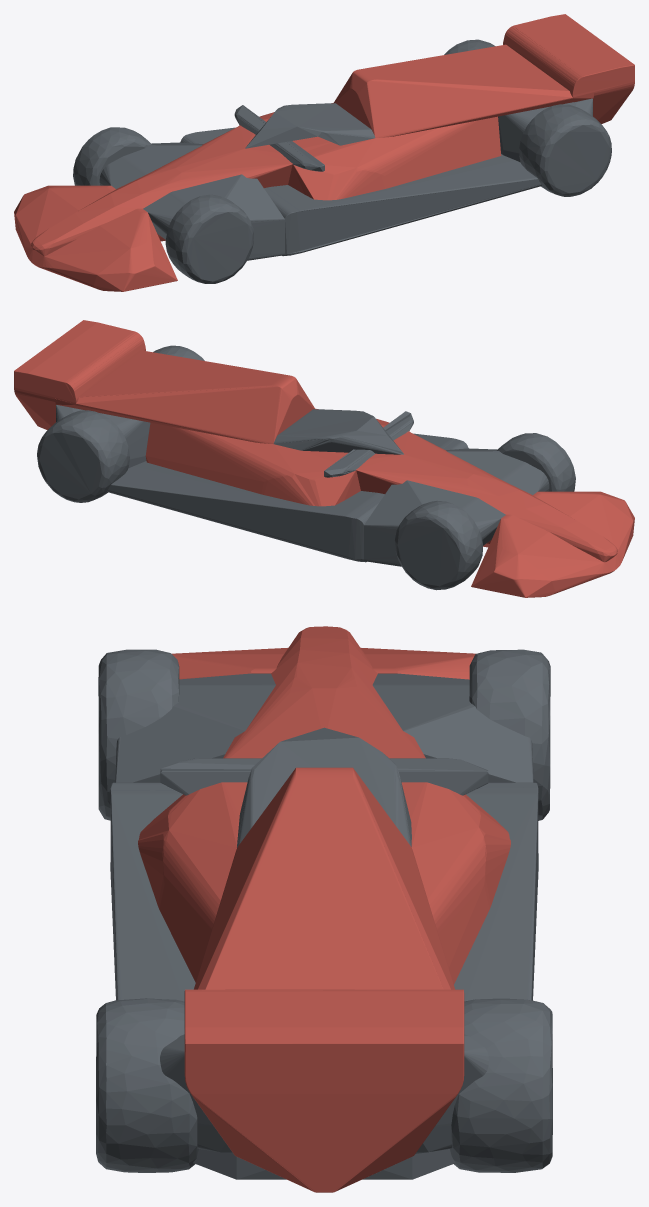
The model's file is car-preview.glb.
3 views of the same model, one above another, from view 1: azimuth 30°, elevation 25°; view 2: azimuth 150°, elevation 25°; view 3: azimuth 270°, elevation 25° (orthographic). The views are drawn at different scales.
Parts seen in each view (by area): view 1: engine-cover, floor, front-wing, left-sidepod, chassis, rear-wing, front-suspension, rear-left-wheel, front-left-wheel, halo, front-right-wheel, rear-suspension (+2 smaller); view 2: engine-cover, floor, front-wing, right-sidepod, chassis, rear-wing, front-suspension, rear-right-wheel, front-right-wheel, halo, front-left-wheel, rear-suspension (+2 smaller); view 3: rear-wing, engine-cover, floor, front-suspension, rear-left-wheel, rear-right-wheel, chassis, right-sidepod, left-sidepod, halo, front-left-wheel, front-right-wheel (+3 smaller).
Part boxes in pixels (x1,y1,x2,y2): engine-cover: (333,44,593,137); floor: (180,127,541,256); front-wing: (14,185,177,291); left-sidepod: (288,116,501,200); chassis: (31,125,331,256); rear-wing: (503,14,634,123); front-suspension: (99,142,284,260); rear-left-wheel: (519,104,611,196); front-left-wheel: (165,194,253,283); halo: (245,103,375,148); front-right-wheel: (73,127,151,185); rear-suspension: (498,98,592,162); engine-cover: (55,350,314,443); floor: (107,433,468,562); front-wing: (471,491,634,597); right-sidepod: (145,422,360,506); chassis: (326,431,617,562); rear-wing: (14,320,145,429); front-suspension: (364,448,549,566); rear-right-wheel: (37,410,129,502); front-right-wheel: (394,500,482,590); halo: (273,409,403,454); front-left-wheel: (497,433,575,491); rear-suspension: (56,405,150,468); rear-wing: (184,989,464,1192); engine-cover: (194,767,454,989); floor: (110,782,538,1179); front-suspension: (115,673,533,782); rear-left-wheel: (96,998,198,1172); rear-right-wheel: (450,998,552,1172); chassis: (223,626,425,758); right-sidepod: (401,782,510,984); left-sidepod: (138,782,247,982); halo: (237,727,411,847); front-left-wheel: (98,649,179,820); front-right-wheel: (469,649,550,820).
Bounding box in the file's own units: 5394 × 1100 × 1881.
